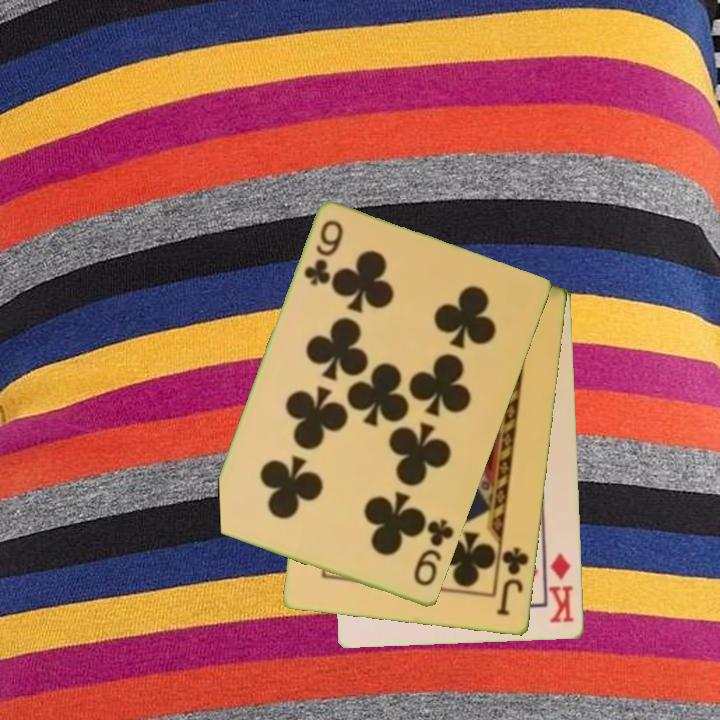9c: (410, 515, 458, 590), (300, 217, 347, 290)
Jc: (494, 543, 532, 619)
Kd: (545, 550, 577, 626)
